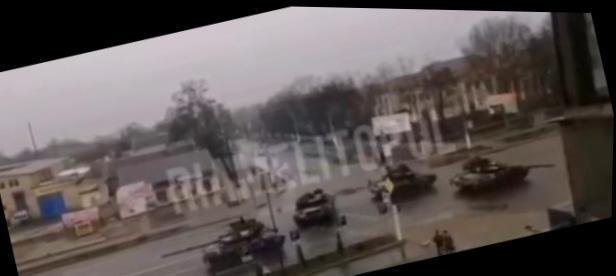tank: (155, 205, 290, 276), (446, 137, 560, 203), (358, 148, 442, 208), (288, 184, 341, 231)
